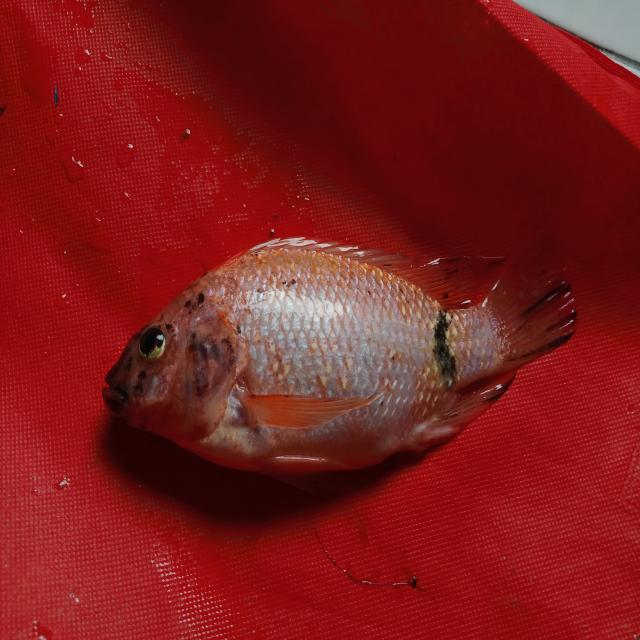ikan: (85, 210, 596, 499)
